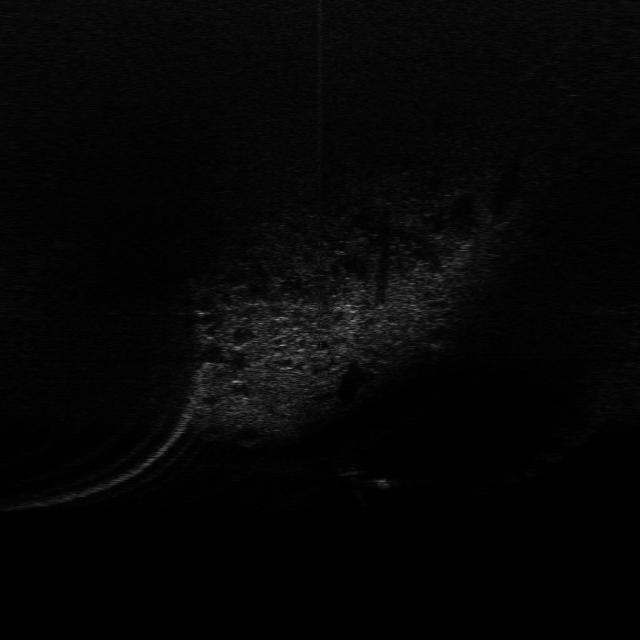cube: (334, 460, 364, 478), (370, 475, 394, 492)
